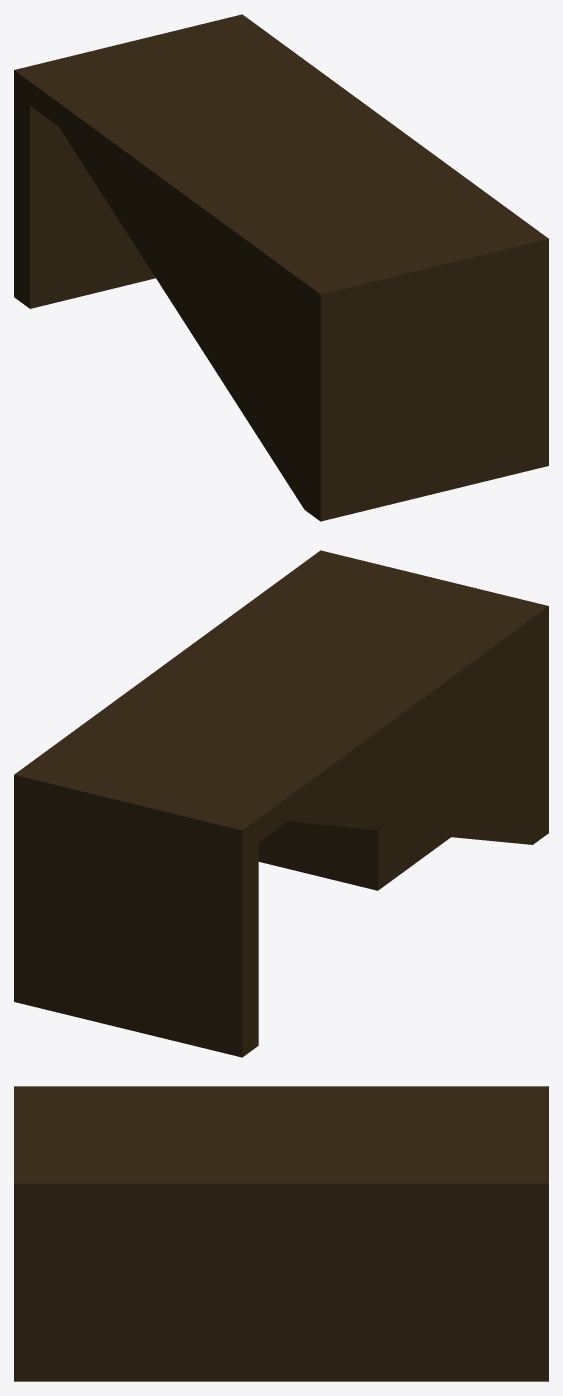
File: MesaProfezo.fbx
3 renders of one model, top to bottom at view 1: azimuth 30°, elevation 25°; view 2: azimuth 150°, elevation 25°; view 3: azimuth 270°, elevation 25°, orthographic. The views are drawn at different scales.
Visible parts, largest first — view 1: Cube; view 2: Cube, Cube.001; view 3: Cube.
Part boxes in pixels (<box>): Cube: <box>14,14,548,521</box>; Cube: <box>14,550,548,1057</box>; Cube.001: <box>258,821,450,890</box>; Cube: <box>14,1086,548,1381</box>.
Bounding box in the file's own units: 531 × 505 × 1235.
